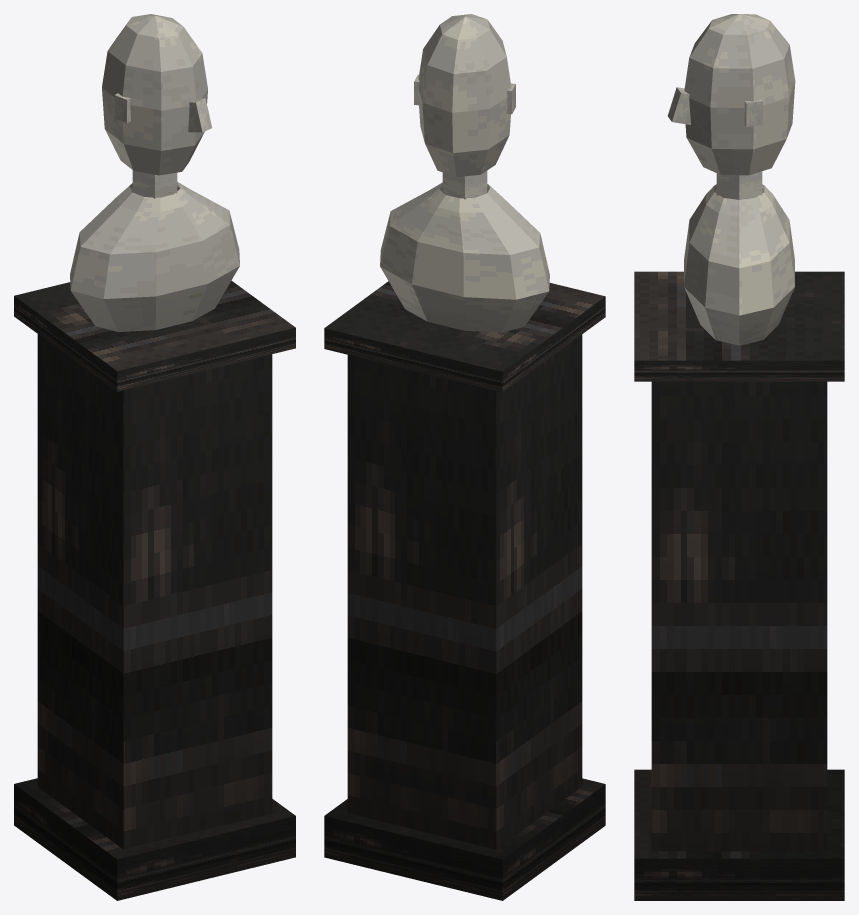
File: prop_bust.glb
3 renders of one model, left to right at view 1: azimuth 30°, elevation 25°; view 2: azimuth 150°, elevation 25°; view 3: azimuth 270°, elevation 25°, orthographic. The views are drawn at different scales.
Parts seen in each view (by area): view 1: prop_bust; view 2: prop_bust; view 3: prop_bust.
Part boxes in pixels (box(x1,y1,x2,y2)): prop_bust: box(14, 14, 295, 900); prop_bust: box(324, 14, 605, 900); prop_bust: box(634, 14, 844, 900).
Bounding box in the file's own units: 0.36 × 1.59 × 0.36.
Materials: 2 (2 with a texture image).
